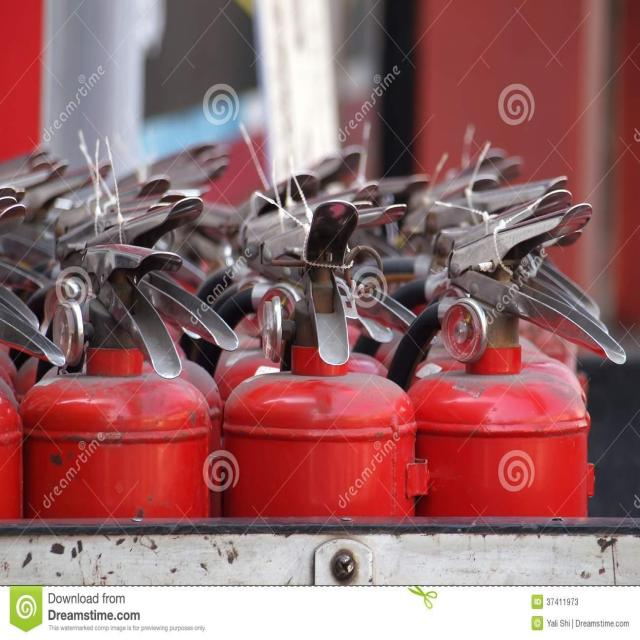fire_extinguisher: (377, 185, 629, 617), (185, 197, 428, 618), (16, 238, 230, 628)
